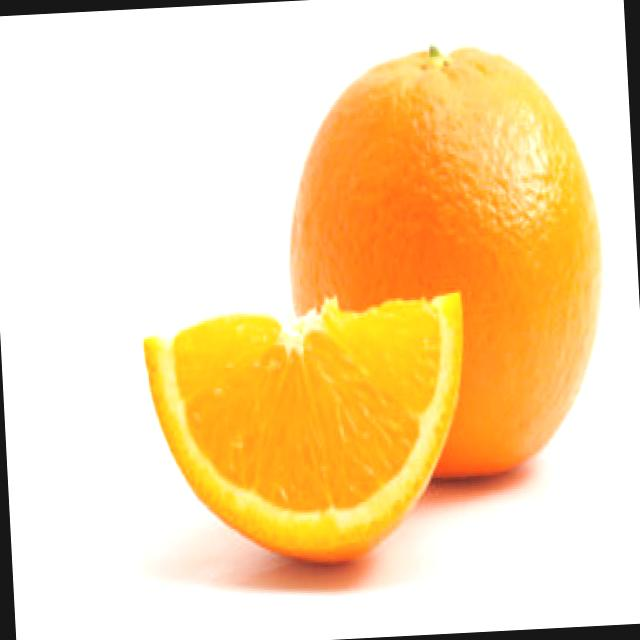orange: (270, 34, 605, 501)
